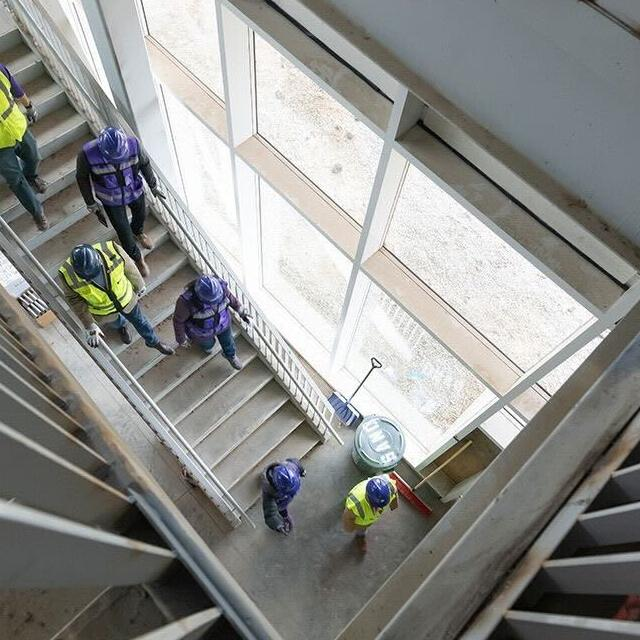Gloves: (85, 323, 105, 349), (24, 101, 39, 124), (86, 203, 104, 216), (152, 185, 167, 200), (241, 310, 254, 327), (135, 287, 146, 297), (182, 341, 191, 349), (301, 470, 306, 477)
Hardhat: (70, 243, 103, 280), (98, 127, 130, 164), (196, 275, 226, 307), (273, 465, 300, 494), (367, 478, 390, 507)
Person: (58, 240, 177, 356), (77, 127, 167, 277), (0, 31, 51, 231), (174, 276, 253, 370), (344, 473, 399, 553), (261, 458, 307, 536)
Safety Vest: (58, 240, 134, 314), (82, 134, 144, 204), (345, 474, 397, 526), (0, 52, 27, 149), (182, 277, 229, 330)
